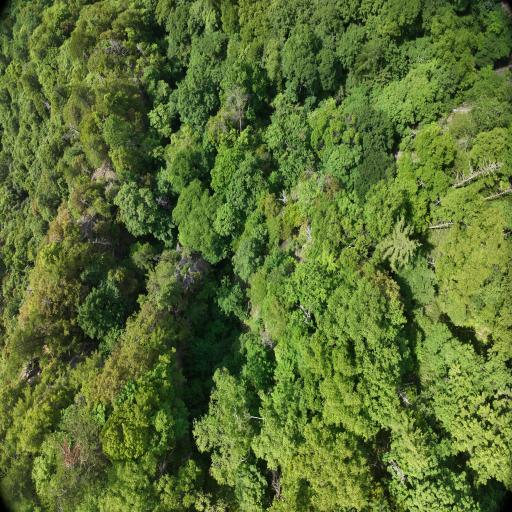dead-tree: (440, 153, 506, 193), (215, 78, 258, 138), (109, 41, 147, 71), (267, 468, 287, 501), (388, 457, 410, 484), (64, 122, 84, 148), (426, 216, 454, 232), (87, 236, 119, 248), (155, 191, 174, 210), (276, 191, 290, 208), (51, 231, 64, 245)
sick-tree: (56, 438, 92, 474)
